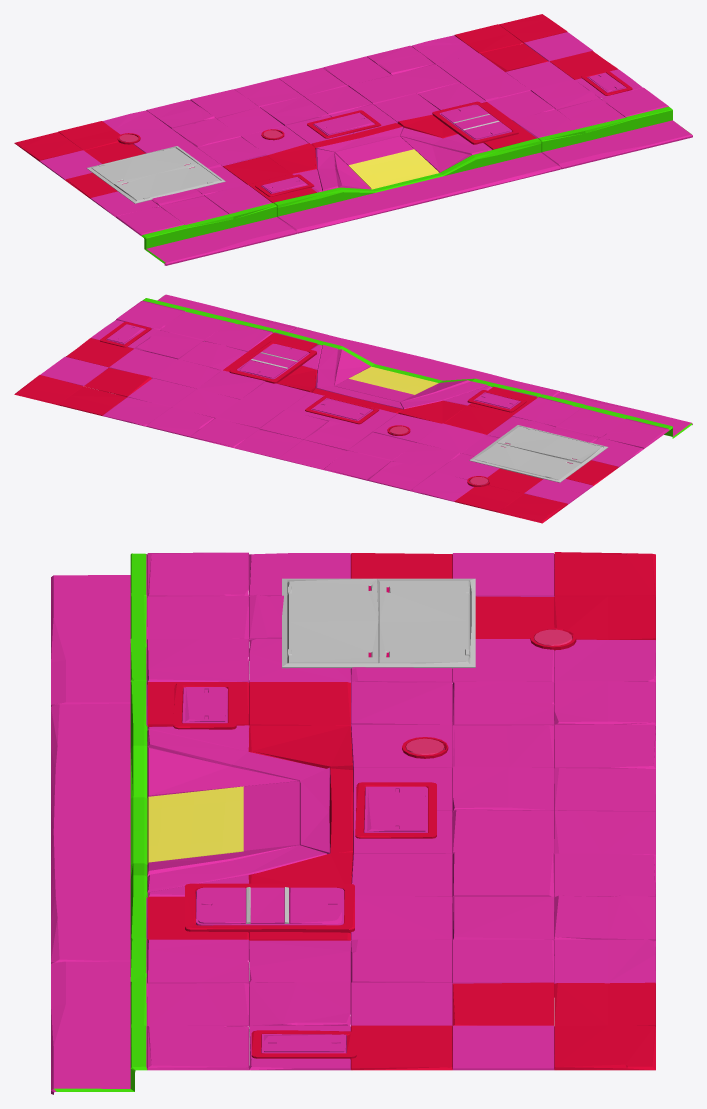
File: Sidewalk05.fbx
The picture shows the model from 3 angles, top to bottom: view 1: azimuth 30°, elevation 25°; view 2: azimuth 150°, elevation 25°; view 3: azimuth 270°, elevation 25°; orthographic projection. The views are drawn at different scales.
Visible parts, largest first — view 1: SM_Sidewalk_01e.mo; view 2: SM_Sidewalk_01e.mo; view 3: SM_Sidewalk_01e.mo.
Boxes of the visible parts, x1=… form: SM_Sidewalk_01e.mo: x1=14, y1=14, x2=692, y2=265; SM_Sidewalk_01e.mo: x1=14, y1=294, x2=692, y2=523; SM_Sidewalk_01e.mo: x1=51, y1=552, x2=655, y2=1094.
Size of the model in its own units: 1200 by 33.88 by 595.
